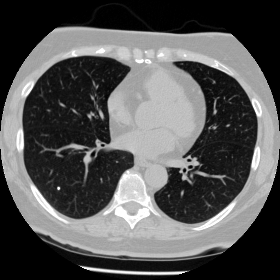nodule: (56, 186, 60, 190)
